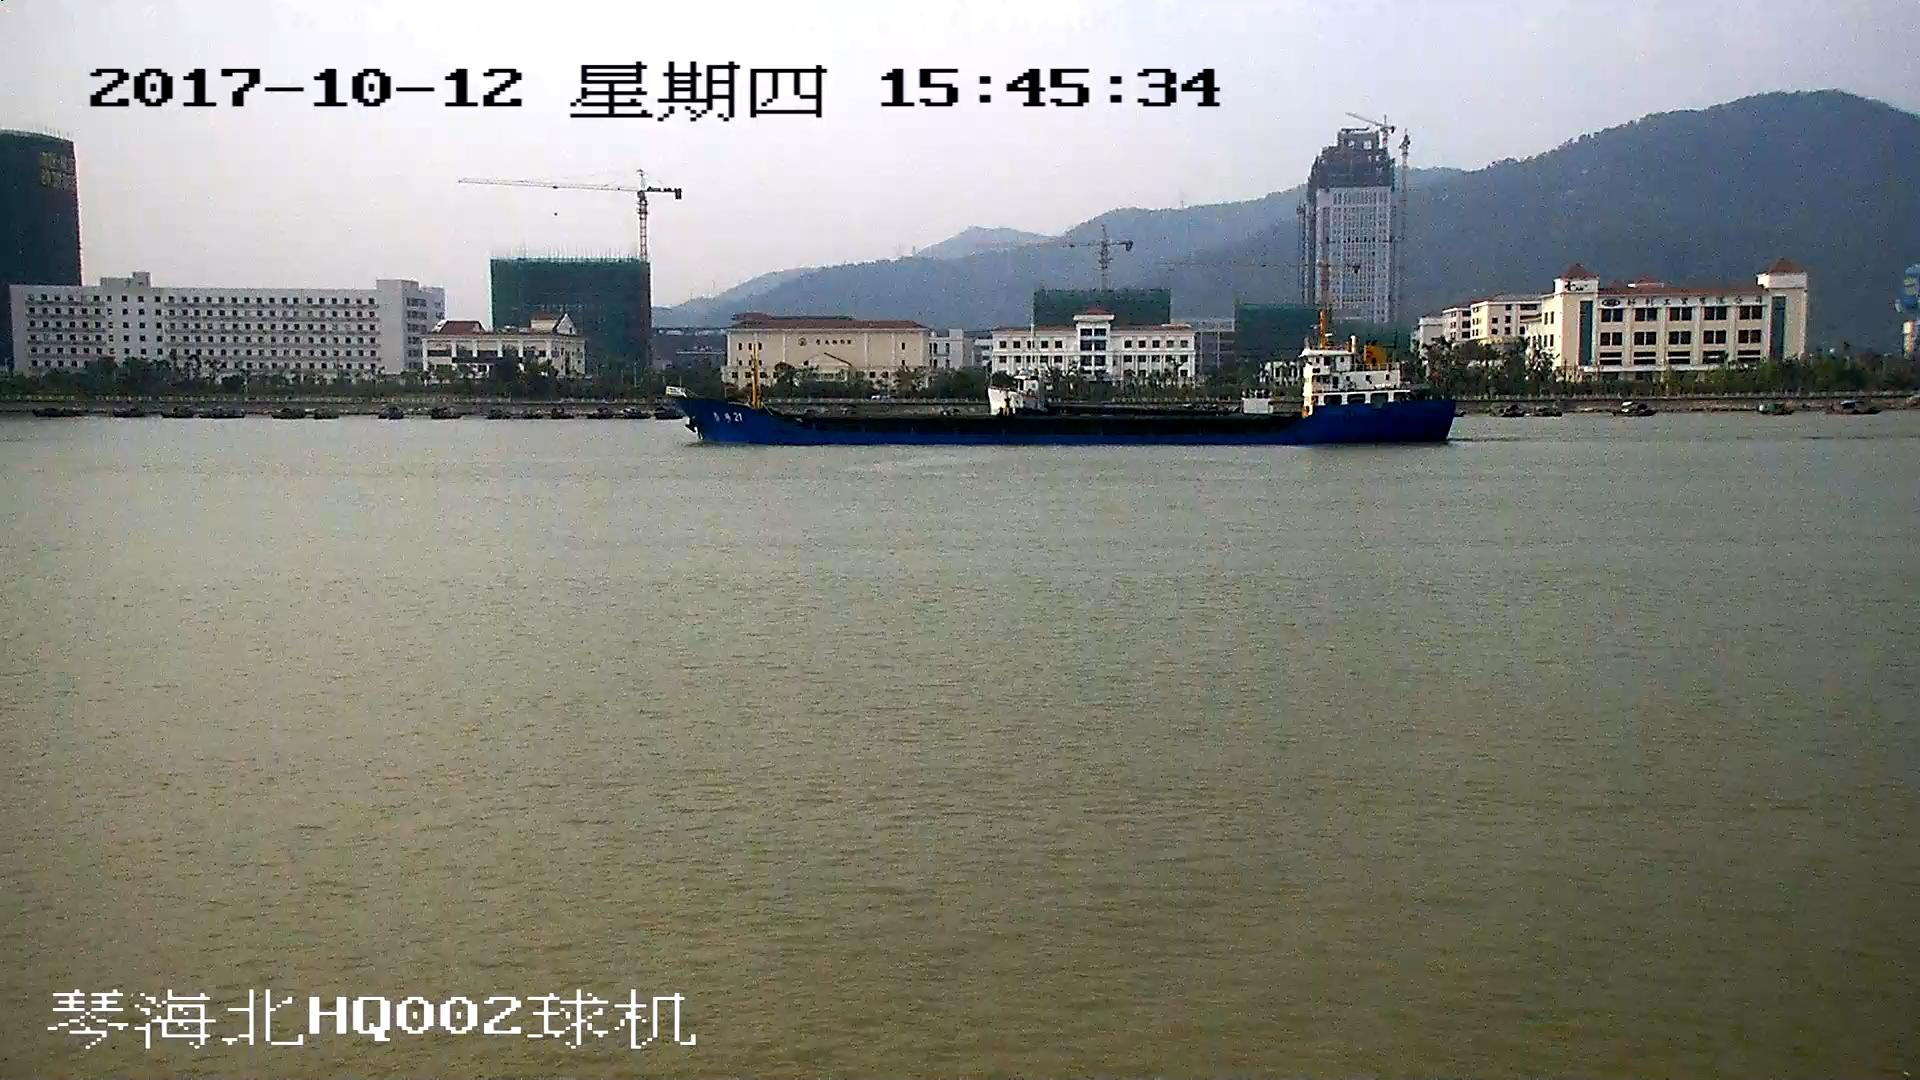general cargo ship: (675, 318, 1449, 443)
